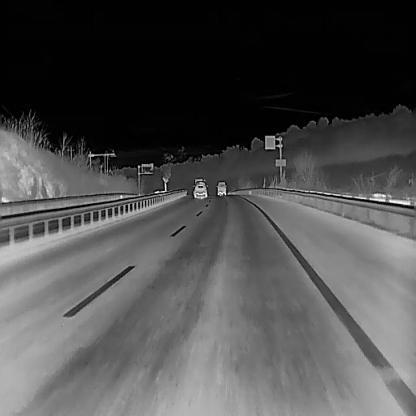car: (191, 179, 208, 198), (215, 180, 226, 195)
